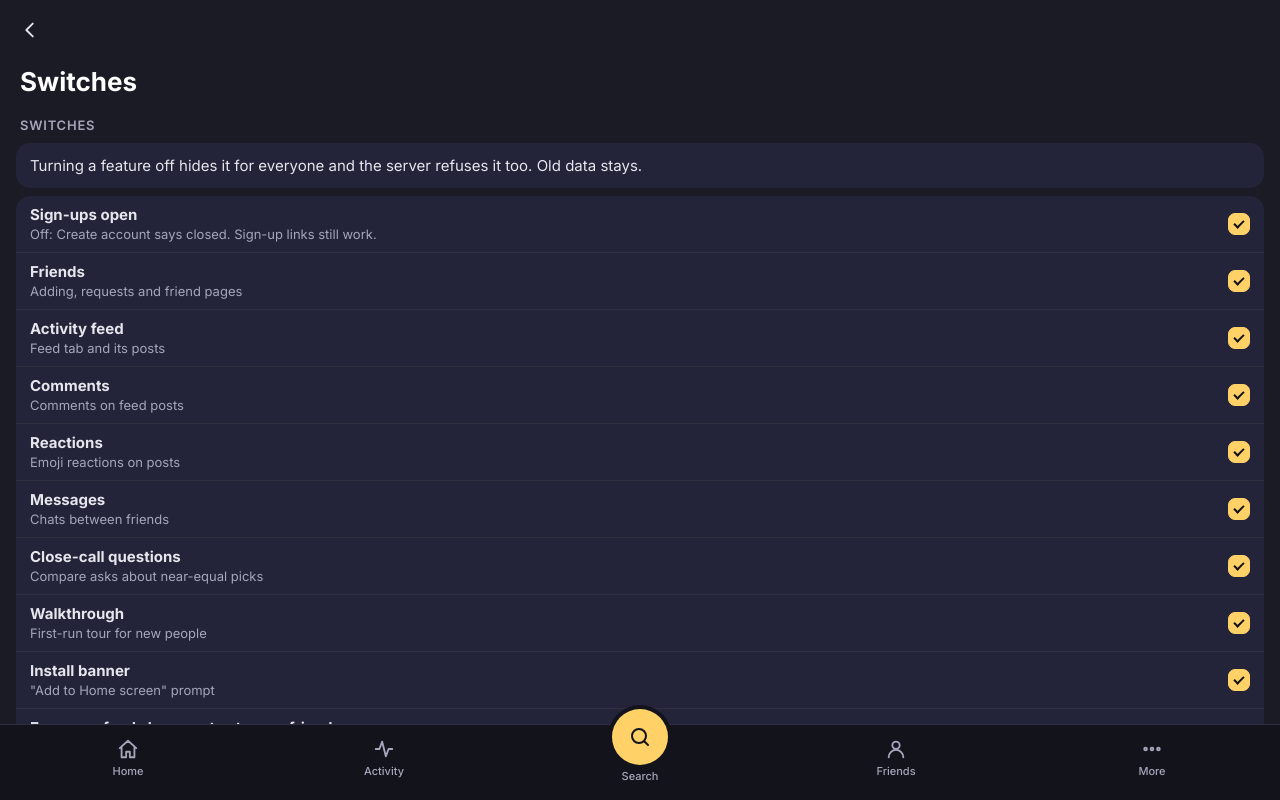
Test case: Switches (AD2) › a failed save puts the switch back and reports it in an alert
Click the switch labelled "Messages".
click(1239, 509)  # box [1228, 498, 1250, 520]
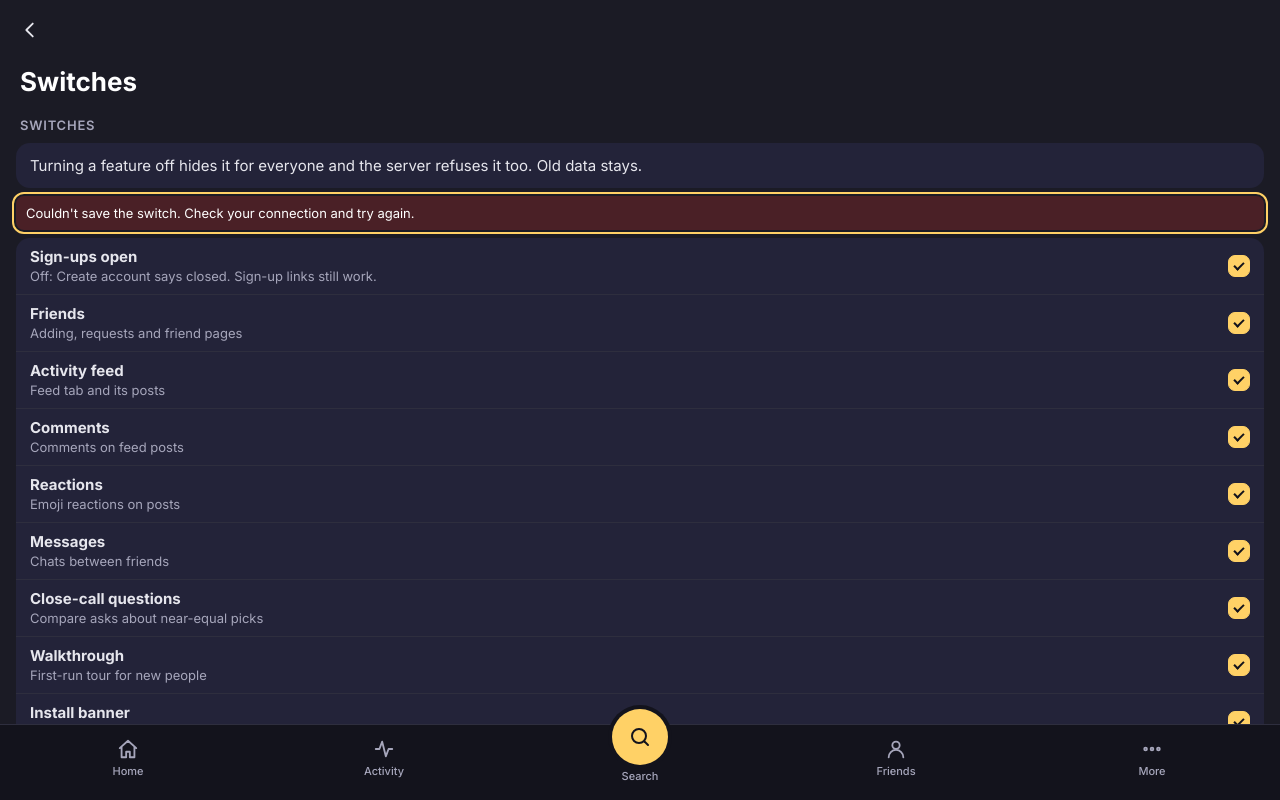
Expected: the switch labelled "Messages" is checked, [1228, 540, 1250, 562]
Expected: the message shows "Couldn't save the switch", [26, 205, 414, 221]
